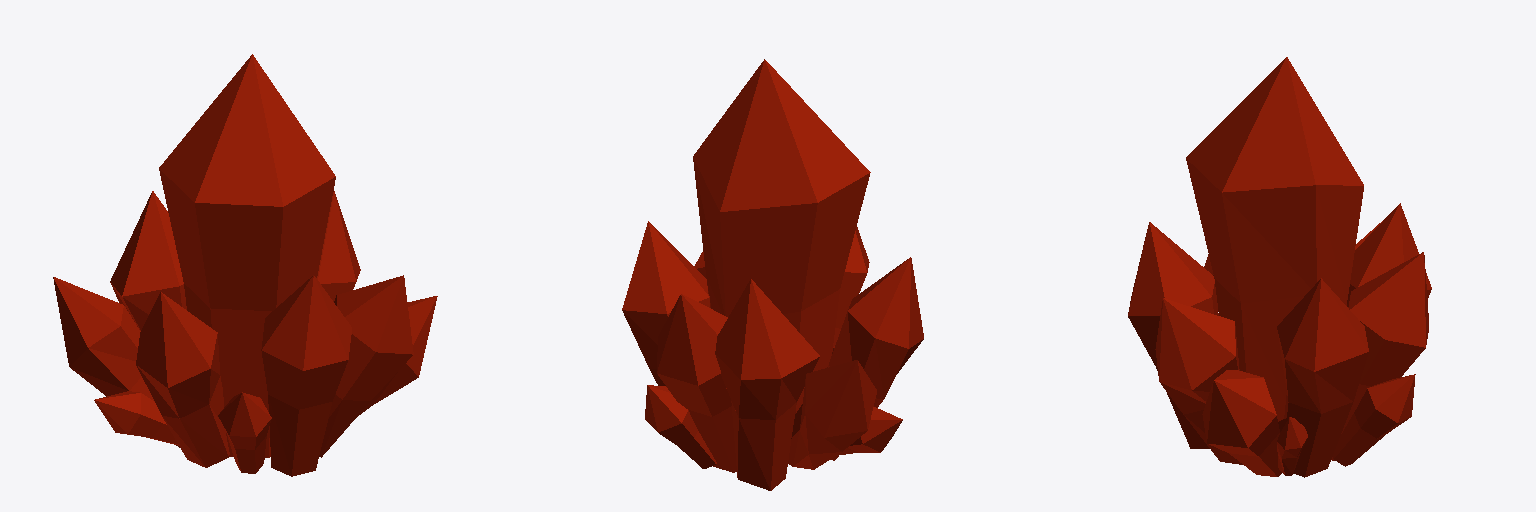
Rendered from minerals.obj.
The picture shows the model from 3 angles: view 1: azimuth 30°, elevation 25°; view 2: azimuth 150°, elevation 25°; view 3: azimuth 270°, elevation 25°; orthographic projection.
Visible parts, largest first — view 1: Mineral_Cylinder; view 2: Mineral_Cylinder; view 3: Mineral_Cylinder.
Boxes of the visible parts, box(x1,y1,x2,y2) form: Mineral_Cylinder: box(53, 54, 437, 476); Mineral_Cylinder: box(622, 59, 923, 490); Mineral_Cylinder: box(1128, 57, 1431, 477).
Size of the model in its own units: 0.4774 by 0.6122 by 0.4229.